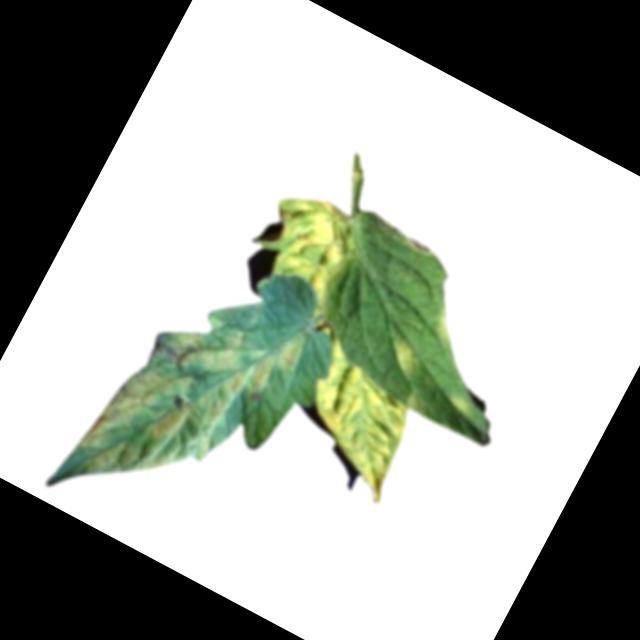Leaf_Mold: (71, 263, 312, 535), (276, 338, 439, 504), (245, 182, 371, 313), (422, 306, 468, 354), (377, 332, 422, 378), (436, 386, 478, 425)
